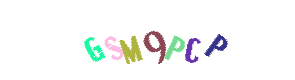9: (107, 0, 187, 80)
C: (126, 0, 206, 80)
G: (53, 0, 133, 80)
M: (102, 0, 182, 80)
P: (116, 0, 196, 80), (165, 0, 245, 80)
S: (92, 0, 172, 80)
